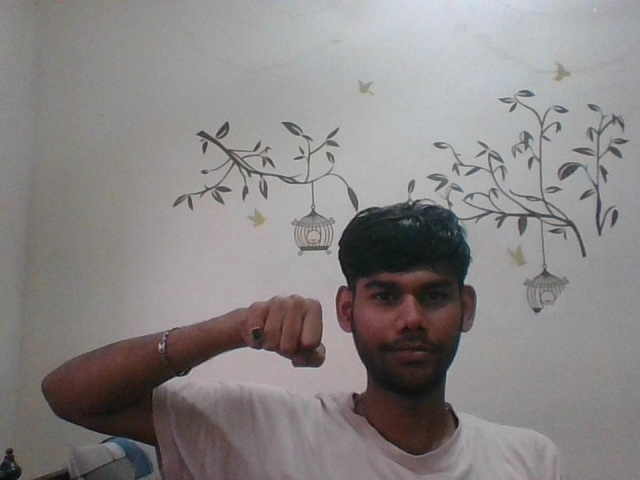Thank You: (230, 276, 336, 377)
